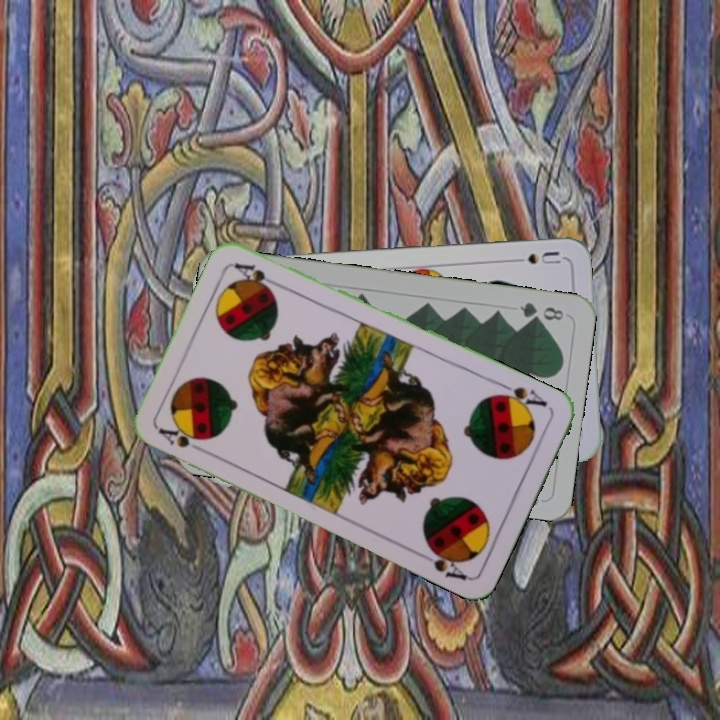G8: (516, 298, 567, 324)
SA: (492, 379, 550, 415), (153, 421, 210, 456)
SU: (506, 247, 563, 267)
